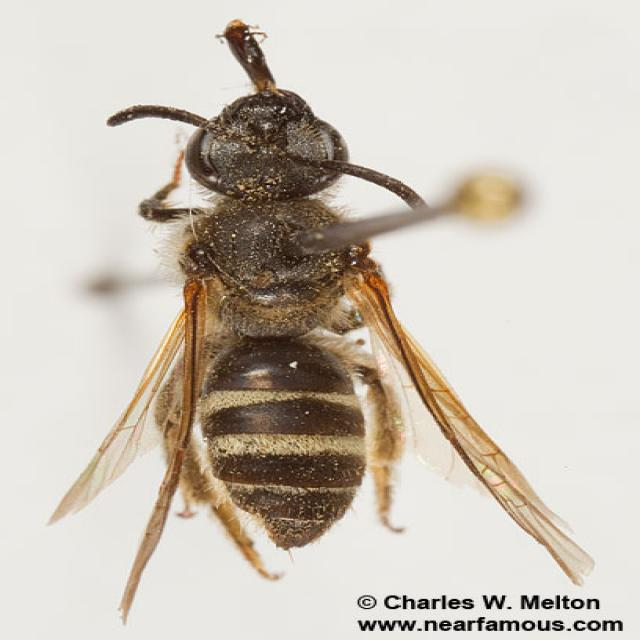Lasioglossum: (64, 14, 506, 577)
